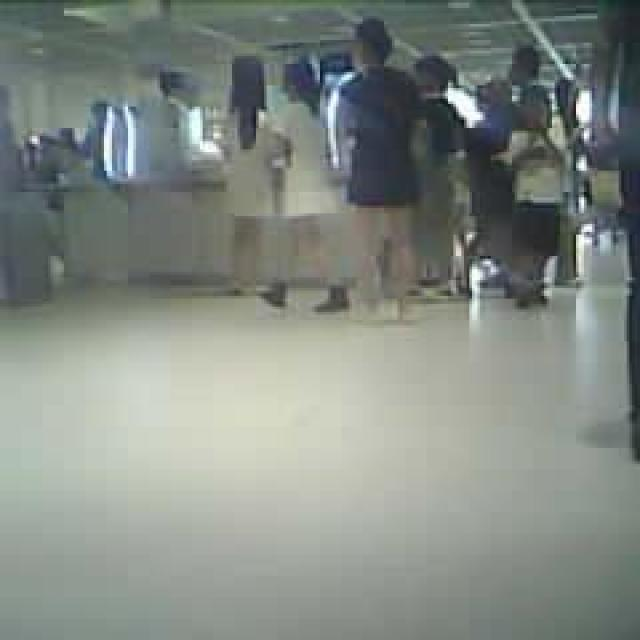person: (328, 16, 430, 320), (260, 65, 348, 314), (409, 53, 471, 299), (215, 59, 278, 298), (462, 78, 524, 282), (510, 90, 568, 302), (556, 78, 607, 228), (150, 68, 204, 175)
